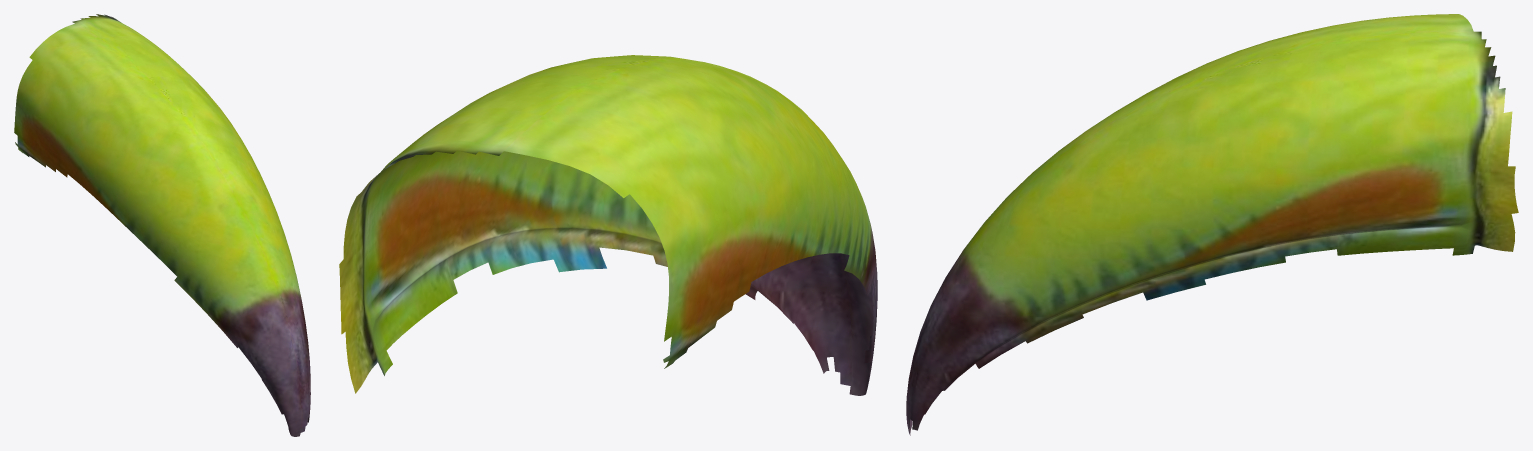
The model's file is tucanpicoup.obj.
3 views of the same model, side by side, from view 1: azimuth 30°, elevation 25°; view 2: azimuth 150°, elevation 25°; view 3: azimuth 270°, elevation 25° (orthographic). The views are drawn at different scales.
Parts seen in each view (by area): view 1: 12260_Bird_Toucan_v3_l2.002; view 2: 12260_Bird_Toucan_v3_l2.002; view 3: 12260_Bird_Toucan_v3_l2.002.
Part boxes in pixels (left/top/right/bottom): 12260_Bird_Toucan_v3_l2.002: left=14, top=14, right=310, bottom=436; 12260_Bird_Toucan_v3_l2.002: left=339, top=55, right=877, bottom=395; 12260_Bird_Toucan_v3_l2.002: left=906, top=14, right=1518, bottom=435.
Bounding box in the file's own units: 0.6847 × 1.17 × 1.68.
